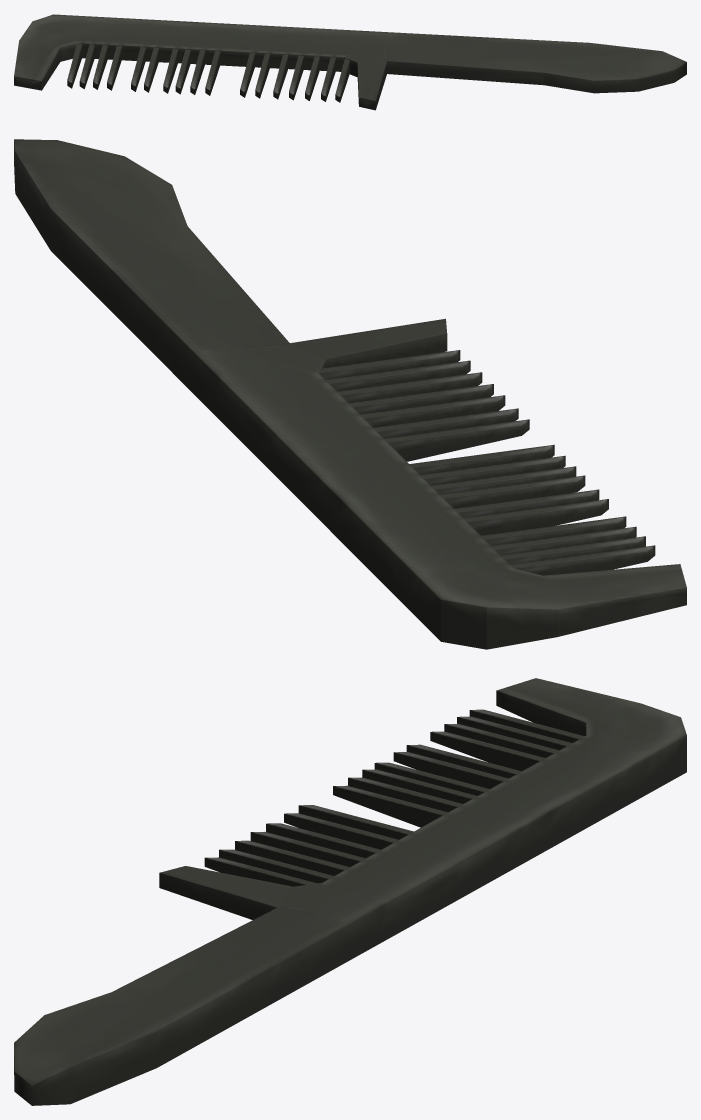
The model's file is ZhiBanShi_01_shuzi_01.FBX.
The picture shows the model from 3 angles, top to bottom: view 1: azimuth 30°, elevation 25°; view 2: azimuth 150°, elevation 25°; view 3: azimuth 270°, elevation 25°; orthographic projection. The views are drawn at different scales.
Visible parts, largest first — view 1: XiuXiShi_shuzi; view 2: XiuXiShi_shuzi; view 3: XiuXiShi_shuzi.
Part boxes in pixels (x1,y1,x2,y2): XiuXiShi_shuzi: (14, 14, 686, 110); XiuXiShi_shuzi: (14, 139, 686, 649); XiuXiShi_shuzi: (14, 678, 686, 1105).
Bounding box in the file's own units: 79.34 × 3.33 × 55.02.
